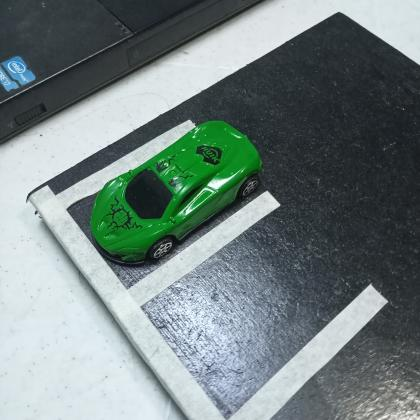Car: (90, 118, 264, 267)
